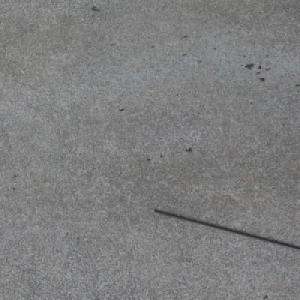LuggagePart: (149, 208, 300, 251)
